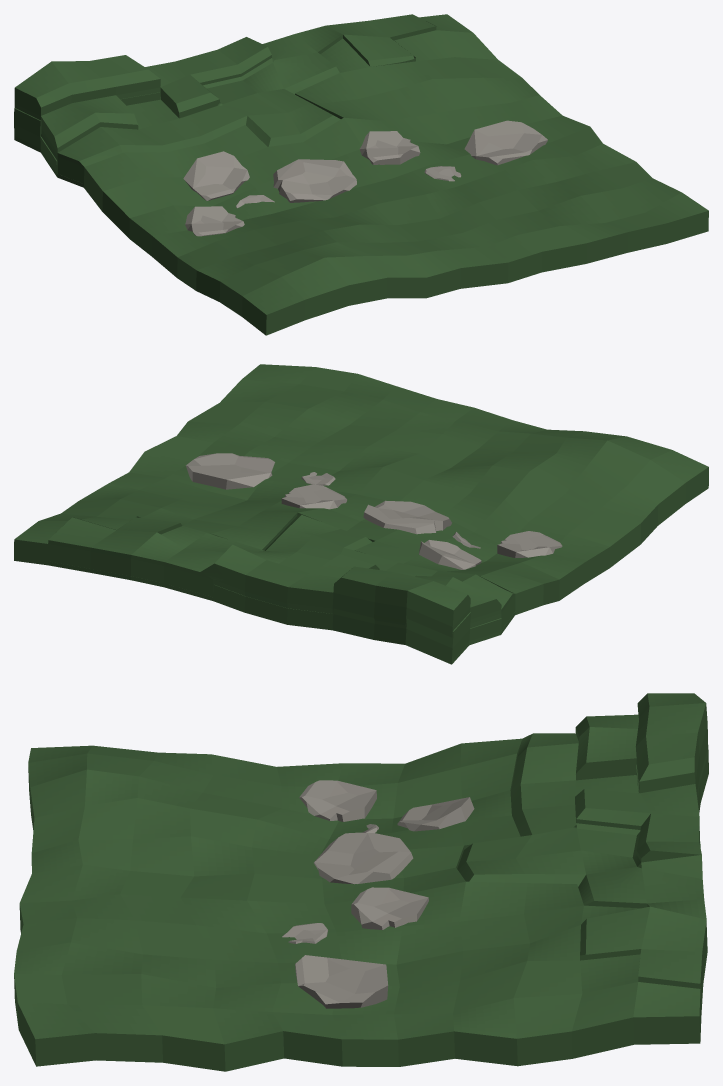
The model's file is yol.fbx.
The picture shows the model from 3 angles, top to bottom: view 1: azimuth 30°, elevation 25°; view 2: azimuth 150°, elevation 25°; view 3: azimuth 270°, elevation 25°; orthographic projection. The views are drawn at different scales.
Parts seen in each view (by area): view 1: Plane, rocks.003, rocks, rocks.005, rocks.001, rocks.004; view 2: Plane, rocks, rocks.003, rocks.004, rocks.001, rocks.005; view 3: Plane, rocks, rocks.003, rocks.001, rocks.004, rocks.005, rocks.002.
Boxes of the visible parts, <box> form: Plane: <box>14,14,708,335</box>; rocks.003: <box>273,159,356,202</box>; rocks: <box>464,120,547,165</box>; rocks.005: <box>183,151,249,200</box>; rocks.001: <box>359,131,420,164</box>; rocks.004: <box>185,206,244,236</box>; Plane: <box>14,364,708,664</box>; rocks: <box>186,453,274,489</box>; rocks.003: <box>363,500,451,534</box>; rocks.004: <box>497,531,562,557</box>; rocks.001: <box>281,484,346,509</box>; rocks.005: <box>419,540,481,569</box>; Plane: <box>14,693,708,1071</box>; rocks: <box>295,955,388,1008</box>; rocks.003: <box>314,832,413,884</box>; rocks.001: <box>351,887,428,930</box>; rocks.004: <box>299,780,376,821</box>; rocks.005: <box>397,797,474,831</box>; rocks.002: <box>282,923,327,943</box>.
Size of the model in its own units: 2326 by 447 by 2392.
